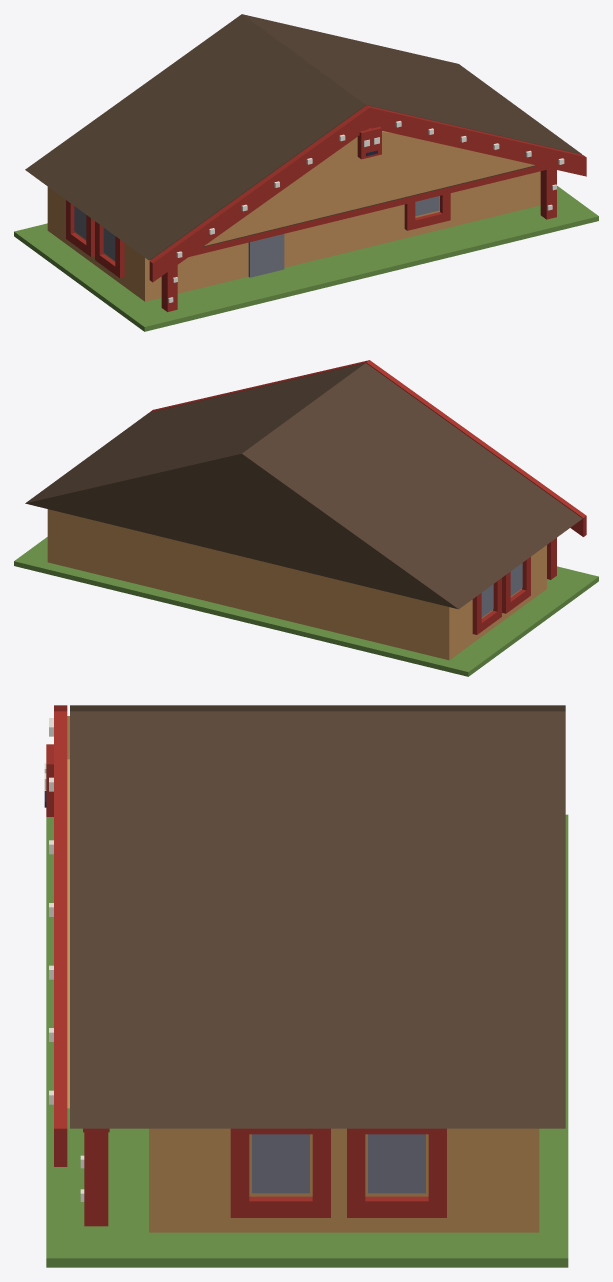
The model's file is house-2x1-1f-whare-a.glb.
3 views of the same model, one above another, from view 1: azimuth 30°, elevation 25°; view 2: azimuth 150°, elevation 25°; view 3: azimuth 270°, elevation 25° (orthographic). The views are drawn at different scales.
Parts seen in each view (by area): view 1: house-2x1-1f-whare-a; view 2: house-2x1-1f-whare-a; view 3: house-2x1-1f-whare-a.
Boxes of the visible parts, box(x1,y1,x2,y2) form: house-2x1-1f-whare-a: box(14, 14, 598, 331); house-2x1-1f-whare-a: box(14, 360, 598, 676); house-2x1-1f-whare-a: box(44, 705, 568, 1267).
Bounding box in the file's own units: 1.99 × 0.7 × 0.993.
Materials: 1 (1 with a texture image).
